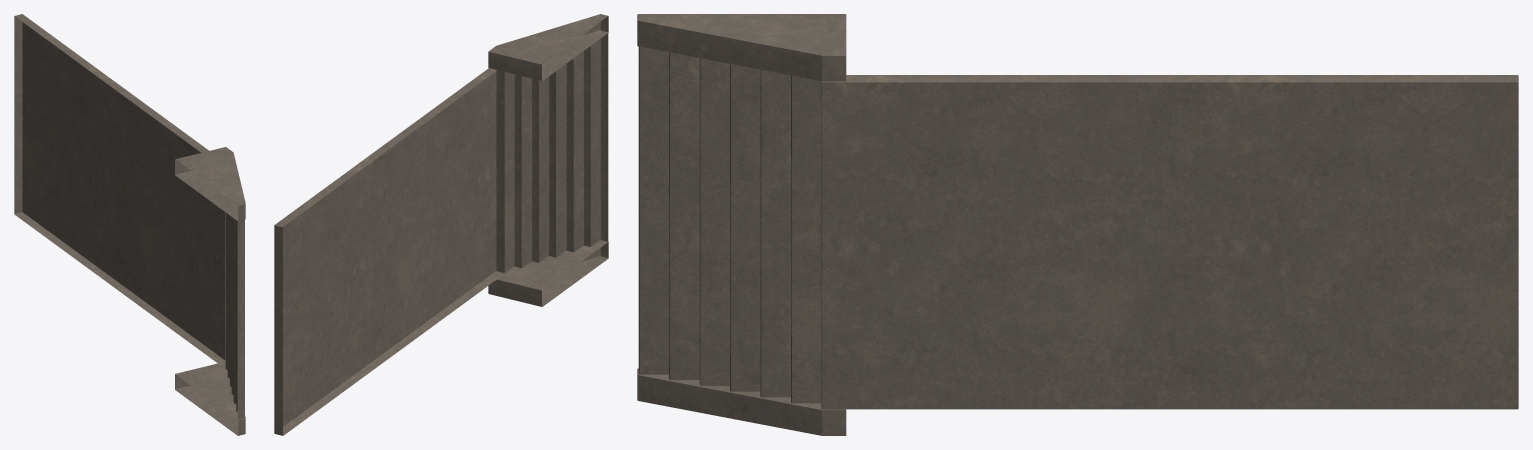
The model's file is cP_CementStairsPath01.dae.
3 views of the same model, side by side, from view 1: azimuth 30°, elevation 25°; view 2: azimuth 150°, elevation 25°; view 3: azimuth 270°, elevation 25° (orthographic). The views are drawn at different scales.
Visible parts, largest first — view 1: cP_CementStairsPath01.001; view 2: cP_CementStairsPath01.001; view 3: cP_CementStairsPath01.001.
Boxes of the visible parts, left/top/right/bottom form: cP_CementStairsPath01.001: left=14, top=14, right=245, bottom=435; cP_CementStairsPath01.001: left=274, top=14, right=608, bottom=435; cP_CementStairsPath01.001: left=637, top=14, right=1518, bottom=435.
Size of the model in its own units: 1 by 9.01 by 4.3.
